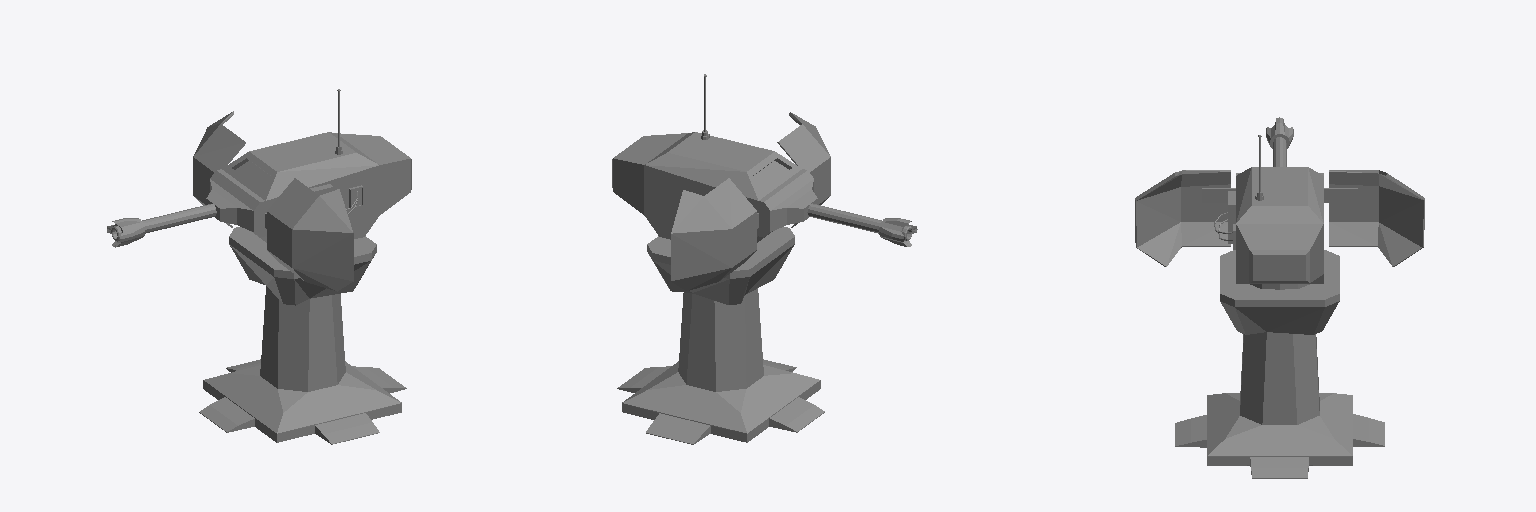
The model's file is Turel_1.obj.
3 views of the same model, side by side, from view 1: azimuth 30°, elevation 25°; view 2: azimuth 150°, elevation 25°; view 3: azimuth 270°, elevation 25° (orthographic).
Visible parts, largest first — view 1: Stoyanka, Bashka, Bronya, Pushka, Radar; view 2: Stoyanka, Bashka, Bronya, Pushka; view 3: Stoyanka, Bronya, Bashka, Pushka, Radar.
Part boxes in pixels (x1,y1,x2,y2): Stoyanka: (199, 227, 406, 444); Bashka: (206, 132, 411, 242); Bronya: (193, 111, 353, 291); Pushka: (107, 204, 216, 247); Radar: (310, 89, 363, 214); Stoyanka: (617, 227, 824, 444); Bashka: (612, 132, 817, 242); Bronya: (671, 112, 830, 290); Pushka: (807, 203, 917, 246); Stoyanka: (1175, 250, 1384, 478); Bronya: (1135, 170, 1424, 266); Bashka: (1236, 167, 1323, 289); Pushka: (1266, 117, 1293, 166); Radar: (1214, 135, 1263, 249).
Bounding box in the file's own units: 70.91 × 74.32 × 62.7.